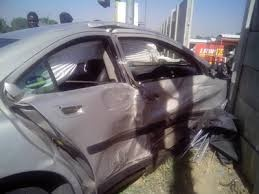Dent: (95, 81, 219, 181)
